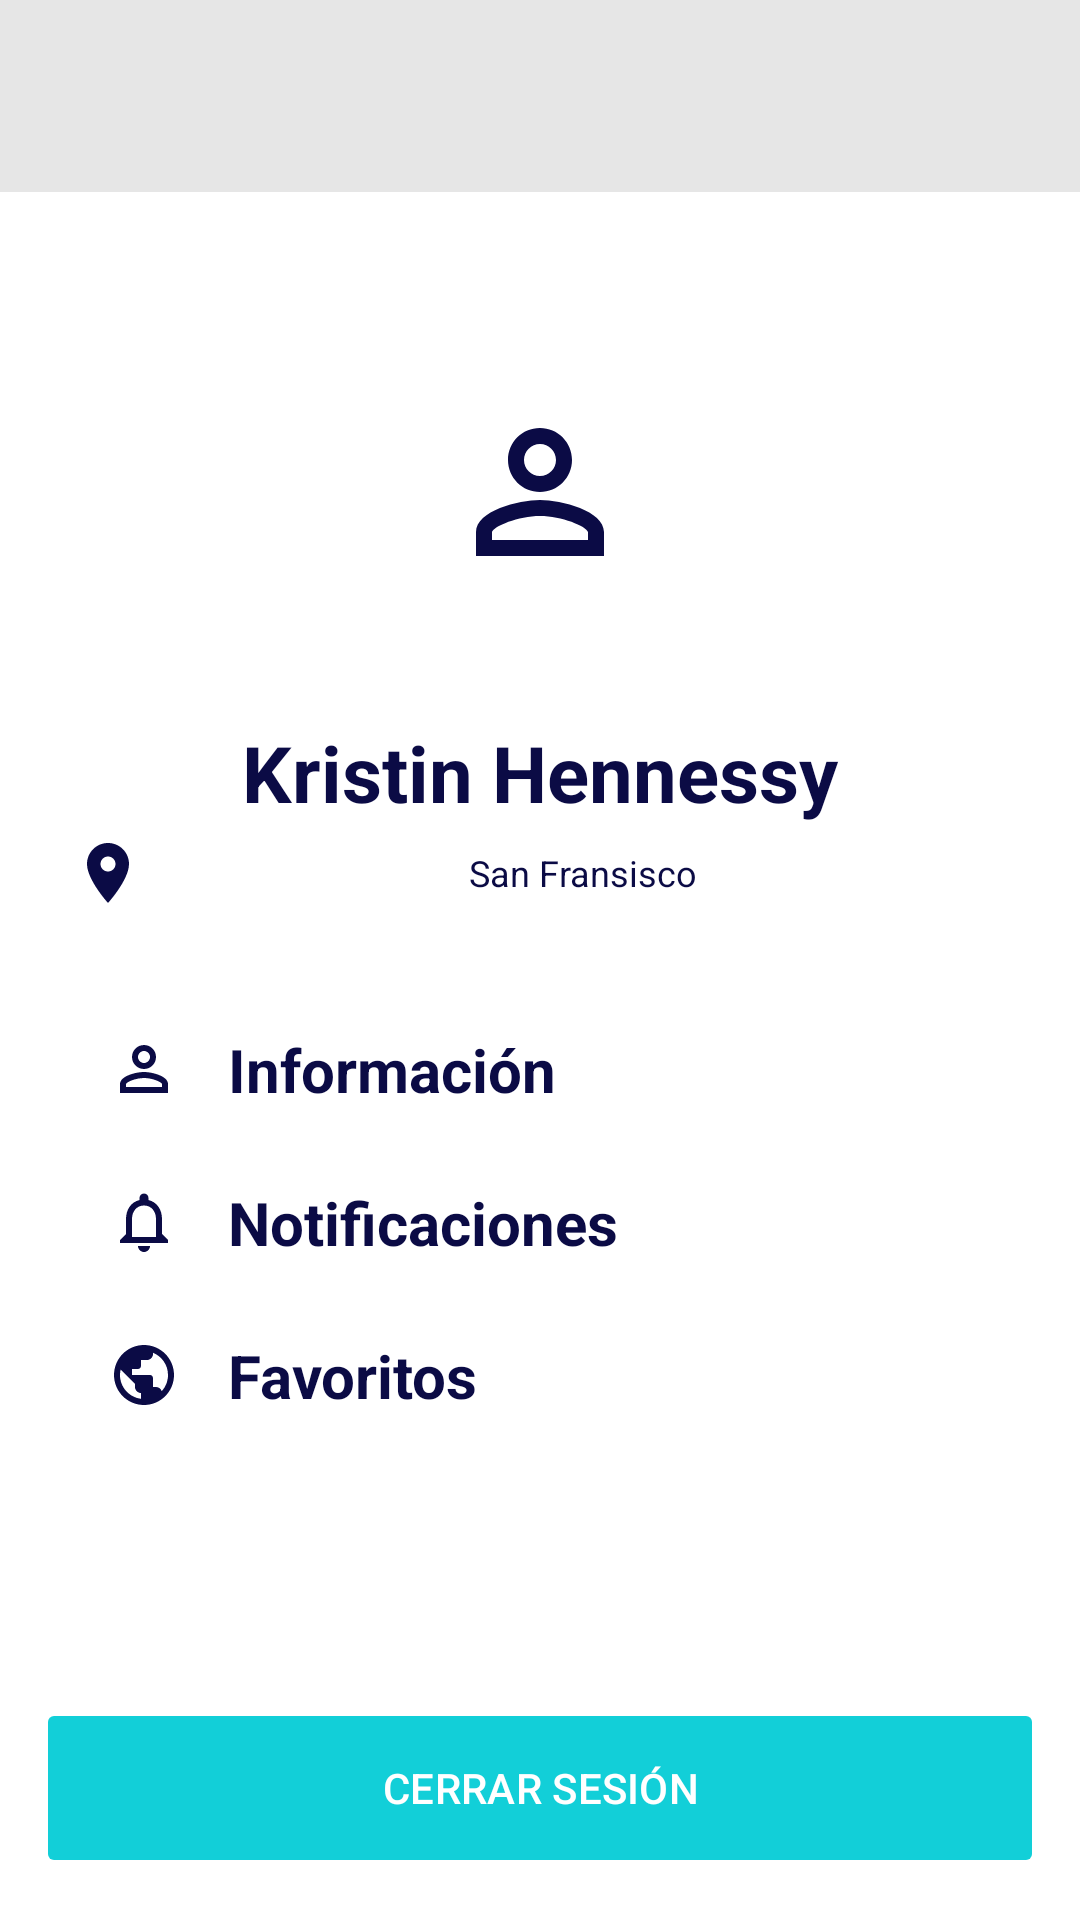

Point at icon controls on the screen. Image size 1080px x 1920px, points as (x=x, y=y).
Foto de perfil: (x=540, y=492)
